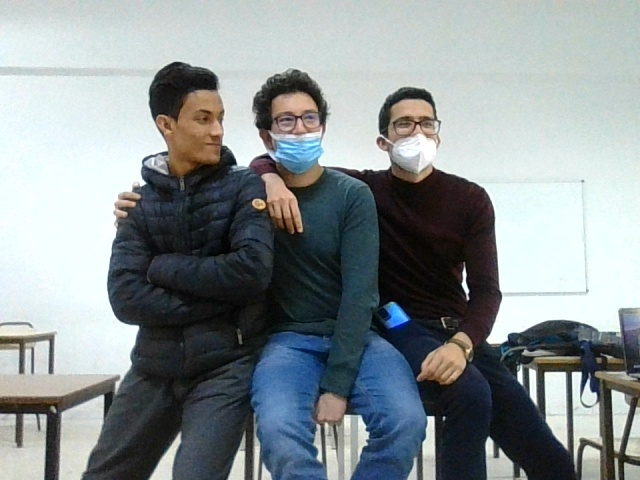mask_weared_incorrect: (376, 80, 460, 186), (251, 70, 329, 176)
without_mask: (138, 53, 244, 180)
